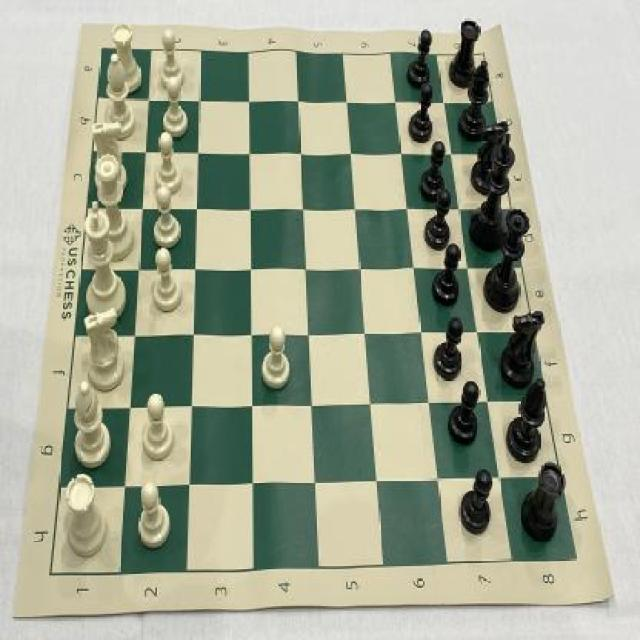bishop: (506, 376, 549, 464), (458, 55, 491, 144)
black-bishop: (470, 132, 516, 253)
black-king: (500, 306, 545, 386), (471, 120, 512, 197)
black-knight: (458, 469, 494, 538), (446, 378, 480, 448), (416, 188, 452, 252), (431, 317, 464, 382), (417, 140, 448, 205), (431, 243, 462, 307), (403, 83, 433, 146), (404, 26, 432, 91)
black-pawn: (483, 205, 530, 312)
black-queen: (518, 460, 568, 545), (448, 17, 482, 91)
black-rook: (67, 378, 111, 470), (100, 48, 138, 139)
white-bishop: (80, 199, 128, 323)
white-king: (76, 305, 126, 392), (89, 119, 128, 196)
white-knight: (137, 388, 175, 462), (134, 478, 173, 548), (148, 244, 184, 314), (260, 321, 294, 394), (149, 185, 183, 250), (151, 131, 183, 197), (155, 26, 187, 90), (160, 76, 191, 142)
white-pawn: (90, 154, 134, 265)
white-queen: (61, 472, 110, 561), (106, 22, 142, 96)
